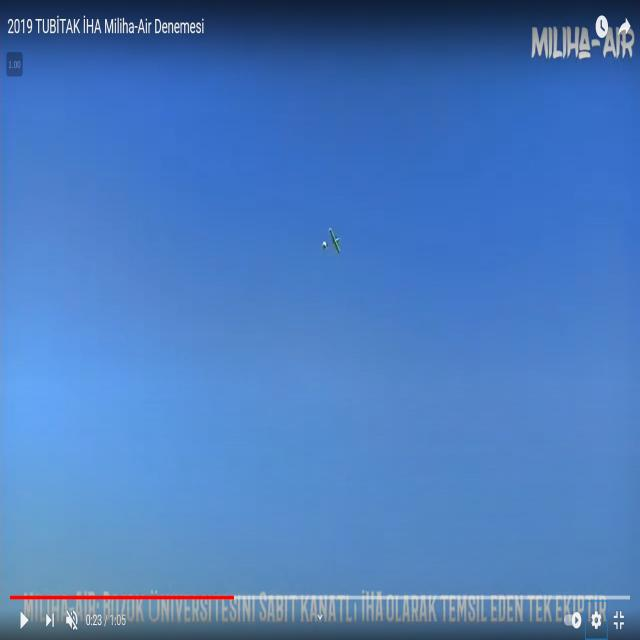iha: (314, 226, 335, 256)
